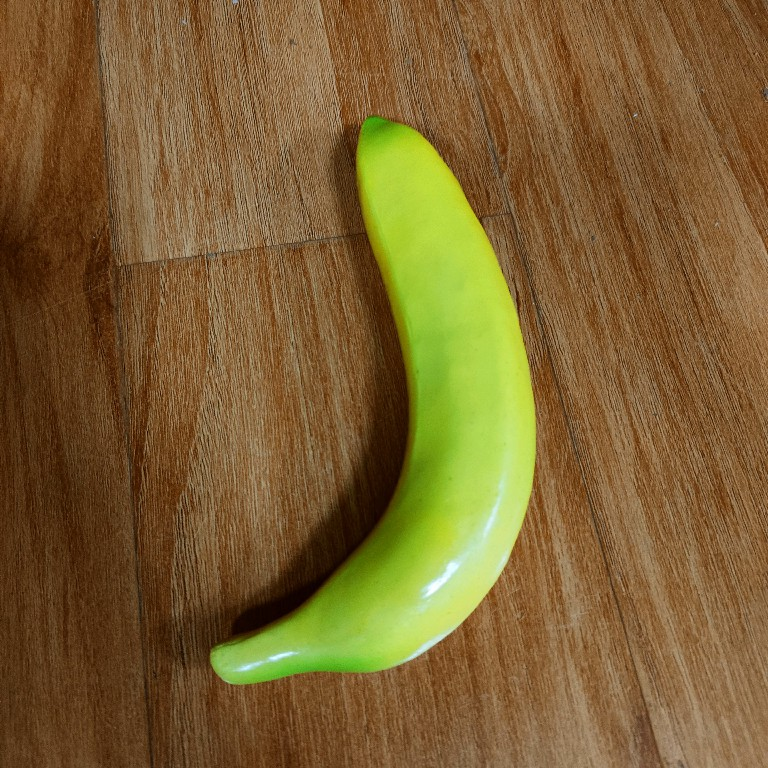fruit_banana: (202, 109, 540, 692)
